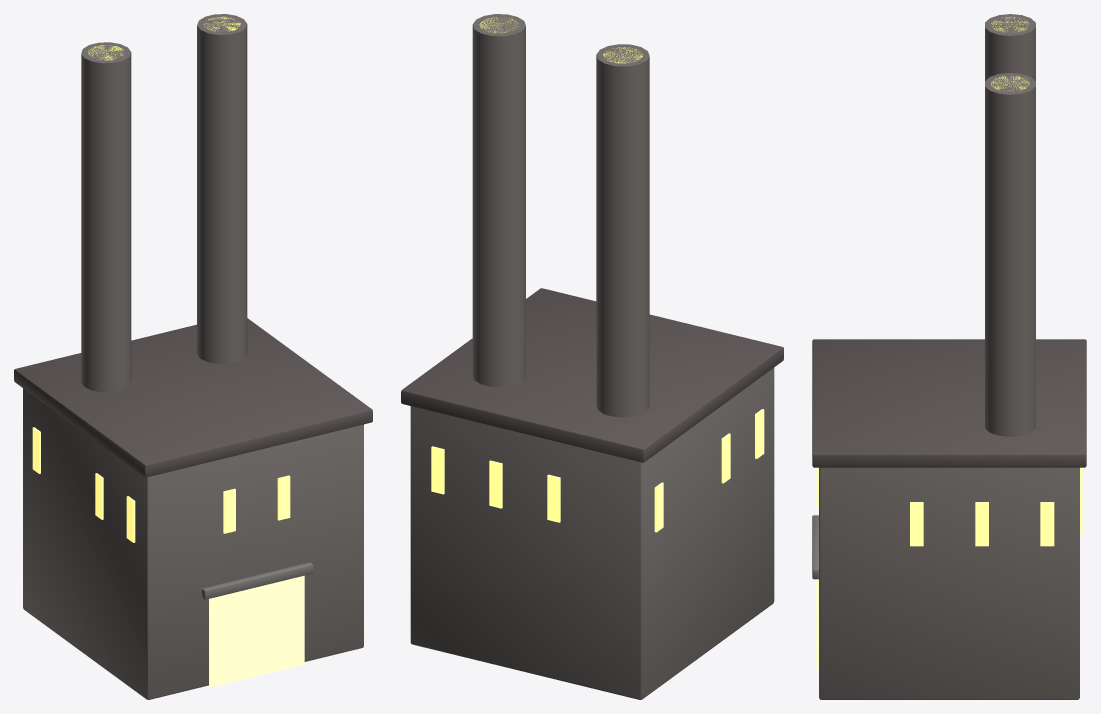
File: SM_Area2_City_D.glb
The picture shows the model from 3 angles, left to right: view 1: azimuth 30°, elevation 25°; view 2: azimuth 150°, elevation 25°; view 3: azimuth 270°, elevation 25°; orthographic projection. The views are drawn at different scales.
Visible parts, largest first — view 1: SM_Area2_City_D; view 2: SM_Area2_City_D; view 3: SM_Area2_City_D.
Boxes of the visible parts, left/top/right/bottom form: SM_Area2_City_D: left=14, top=14, right=372, bottom=699; SM_Area2_City_D: left=401, top=14, right=783, bottom=699; SM_Area2_City_D: left=812, top=14, right=1086, bottom=699.
Size of the model in its own units: 6.3 by 15 by 6.3.
